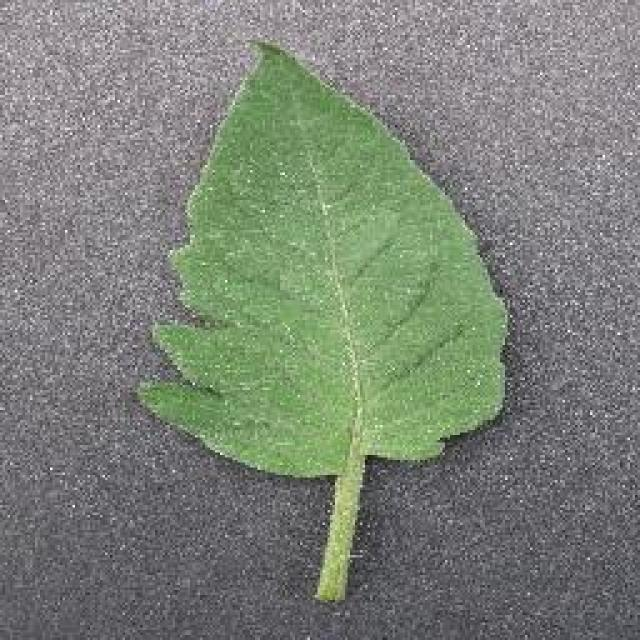Tomato_Healthy: (92, 25, 528, 493)
